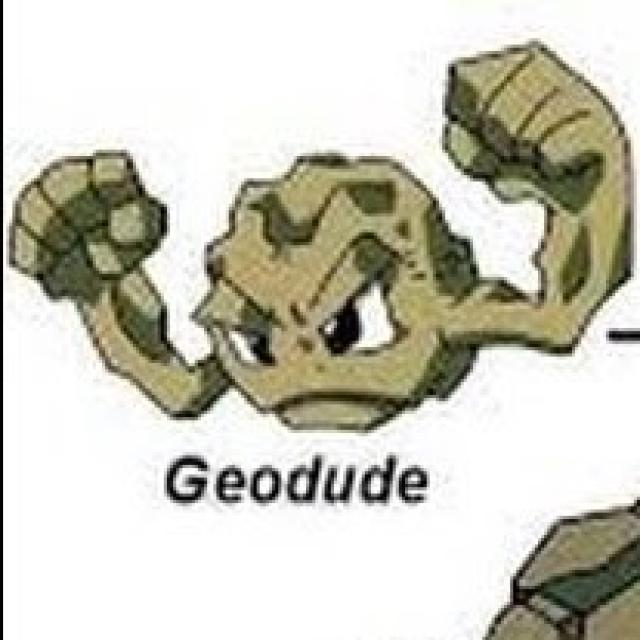Geodude: (8, 34, 638, 452)
